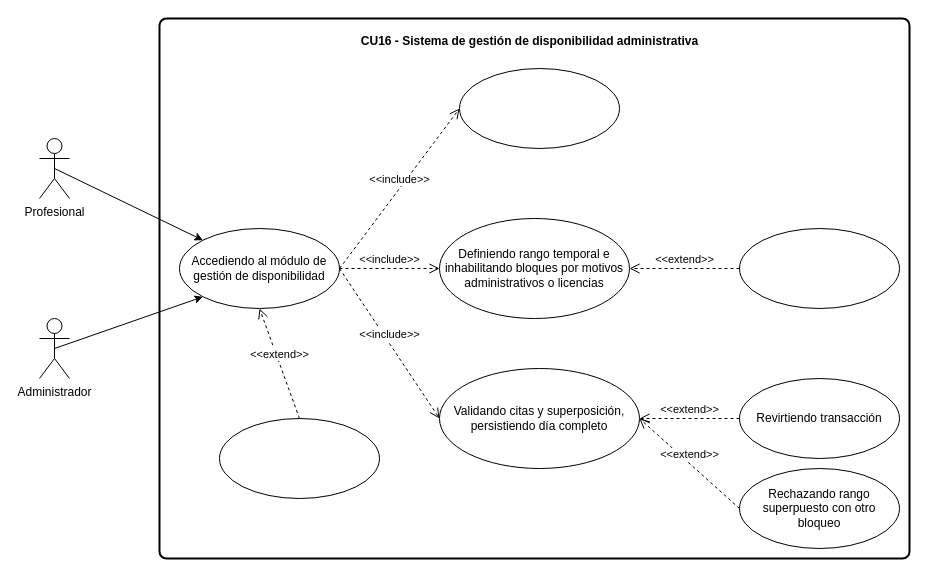
Some shapes in this 927 by 576 pixel diagram are drawn without their labels. Each missing label, with the centre of its shape:
"Bloqueando operación y alertando citas agendadas" belongs at (819,268).
"Desplegando formulario de bloqueo (inicio, término, motivo)" belongs at (539,108).
"Notificando servicio no disponible" belongs at (299,458).
